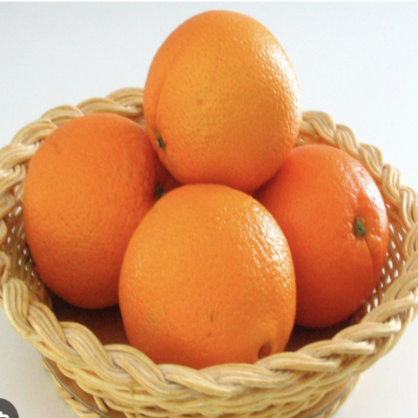orange: (113, 163, 309, 397), (4, 108, 175, 304), (133, 0, 302, 179), (247, 135, 403, 300)
